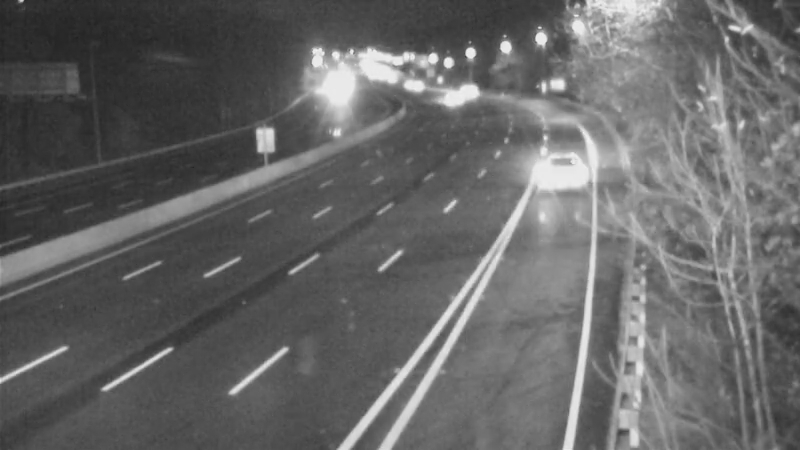vehicle: (521, 133, 601, 213), (440, 66, 490, 116), (428, 76, 478, 126)
